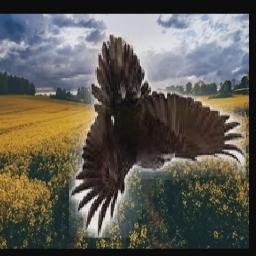Crow: (70, 32, 247, 238)
